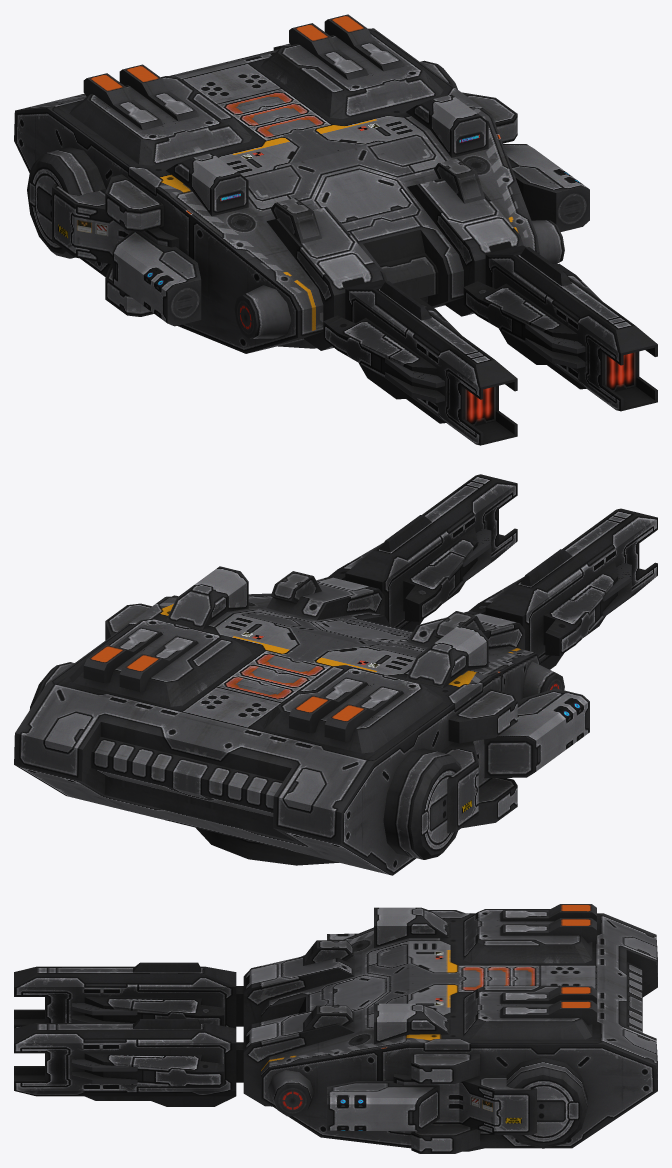
Rendered from Heavy_Turret.FBX.
The picture shows the model from 3 angles, top to bottom: view 1: azimuth 30°, elevation 25°; view 2: azimuth 150°, elevation 25°; view 3: azimuth 270°, elevation 25°; orthographic projection. The views are drawn at different scales.
Visible parts, largest first — view 1: Heavy_Turret, Heavy_Turret-Canon; view 2: Heavy_Turret, Heavy_Turret-Canon; view 3: Heavy_Turret, Heavy_Turret-Canon.
Part boxes in pixels (<box>): Heavy_Turret: <box>14,14,589,353</box>; Heavy_Turret-Canon: <box>323,245,657,445</box>; Heavy_Turret: <box>14,566,589,875</box>; Heavy_Turret-Canon: <box>328,474,657,669</box>; Heavy_Turret: <box>243,904,657,1153</box>; Heavy_Turret-Canon: <box>14,962,243,1106</box>.
Bounding box in the file's own units: 82.68 × 35.68 × 133.
